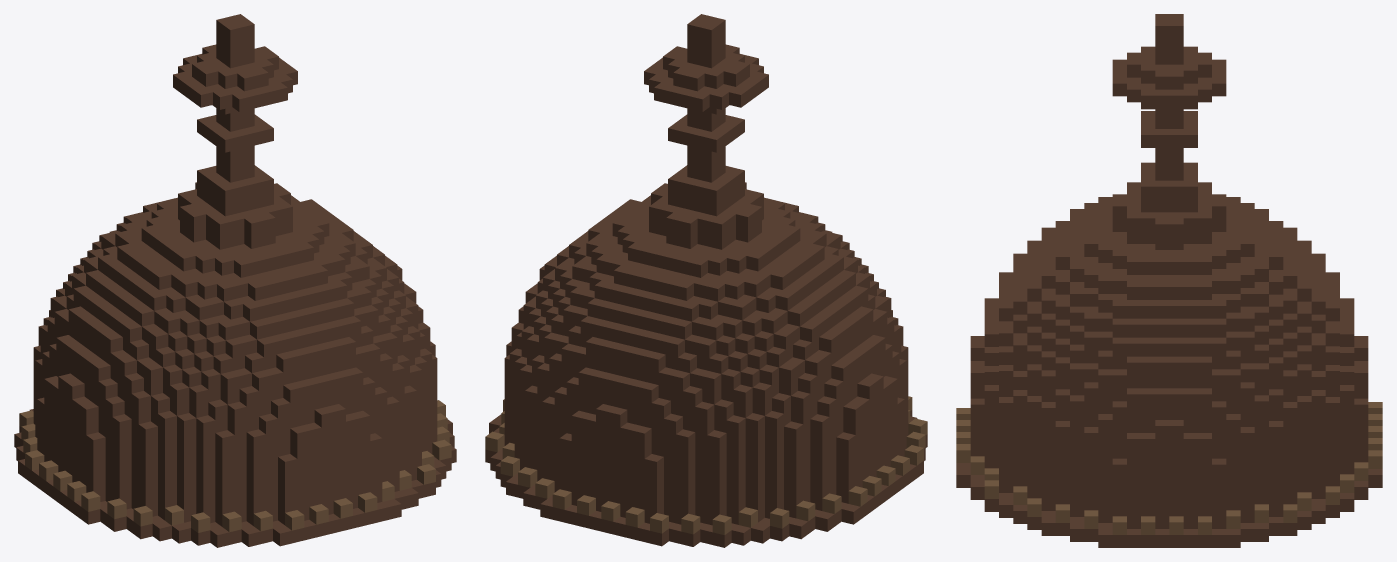
File: Pillar_lava_obj-2.obj
The picture shows the model from 3 angles, left to right: view 1: azimuth 30°, elevation 25°; view 2: azimuth 150°, elevation 25°; view 3: azimuth 270°, elevation 25°; orthographic projection.
Bounding box in the file's own units: 3 × 3.4 × 3.
Materials: 1 (1 with a texture image).
